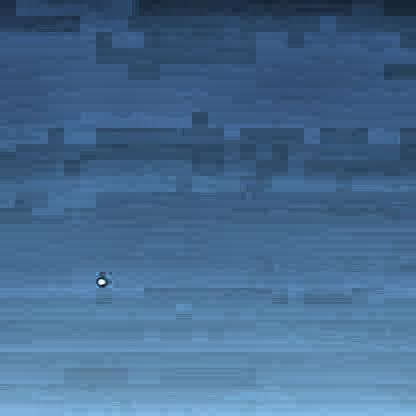golfball: (93, 275, 105, 285)
